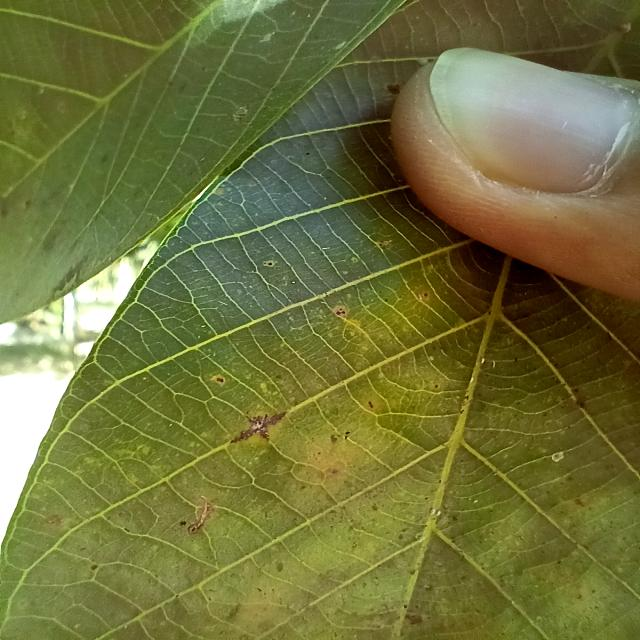Corynespora: (231, 410, 286, 444)
